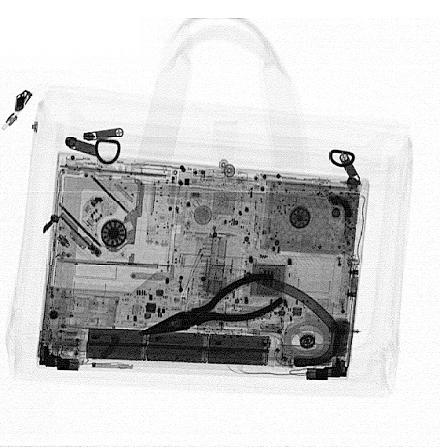Pliers: (137, 272, 287, 338)
